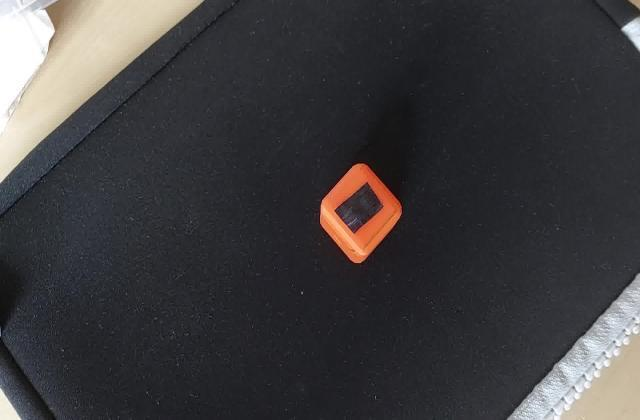black: (328, 184, 386, 234)
sticker: (318, 162, 406, 268)
